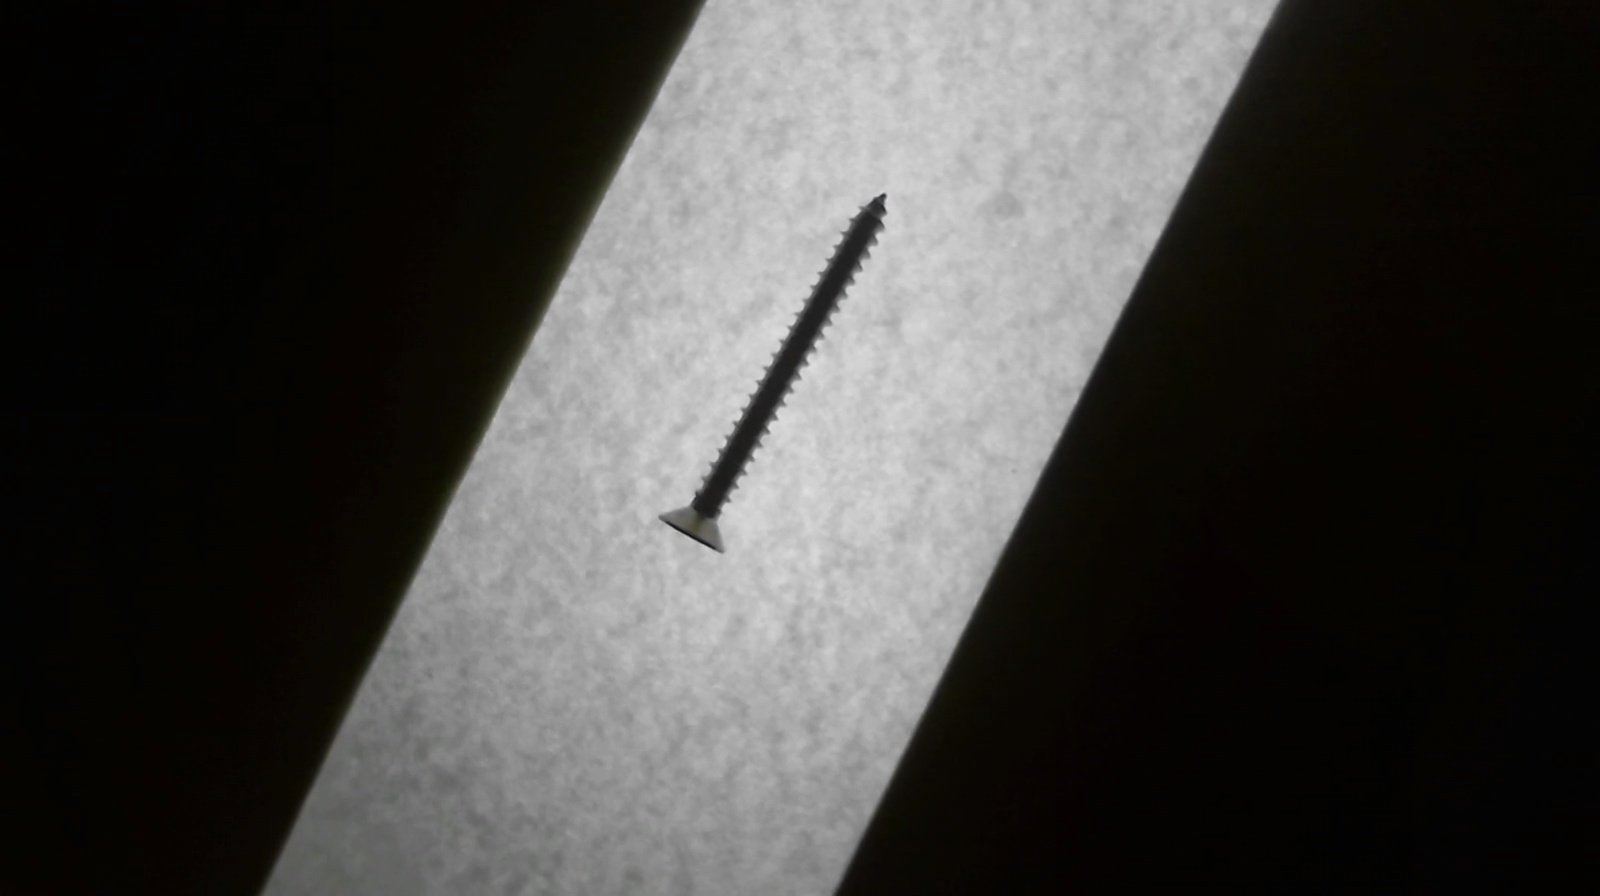S002: (653, 188, 895, 558)
